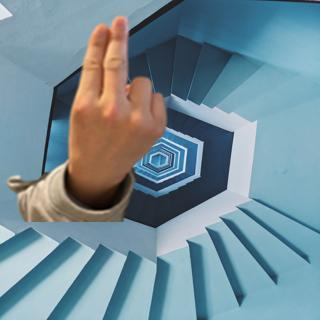DHAVE: (59, 12, 173, 185)
